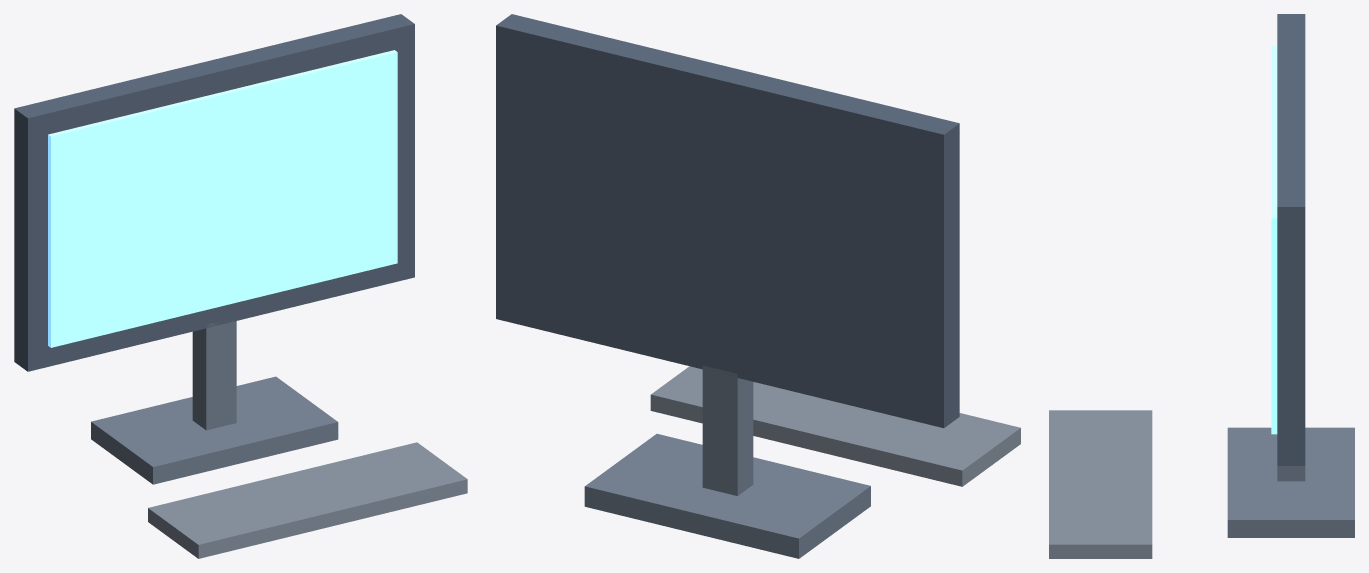
3 views of the same model, side by side, from view 1: azimuth 30°, elevation 25°; view 2: azimuth 150°, elevation 25°; view 3: azimuth 270°, elevation 25° (orthographic). The views are drawn at different scales.
Visible parts, largest first — view 1: pc; view 2: pc; view 3: pc.
Boxes of the visible parts, bbox=[...] form: pc: bbox=[14, 14, 467, 558]; pc: bbox=[496, 14, 1020, 558]; pc: bbox=[1049, 14, 1354, 558].
Bounding box in the file's own units: 1.15 × 1.06 × 0.77.
